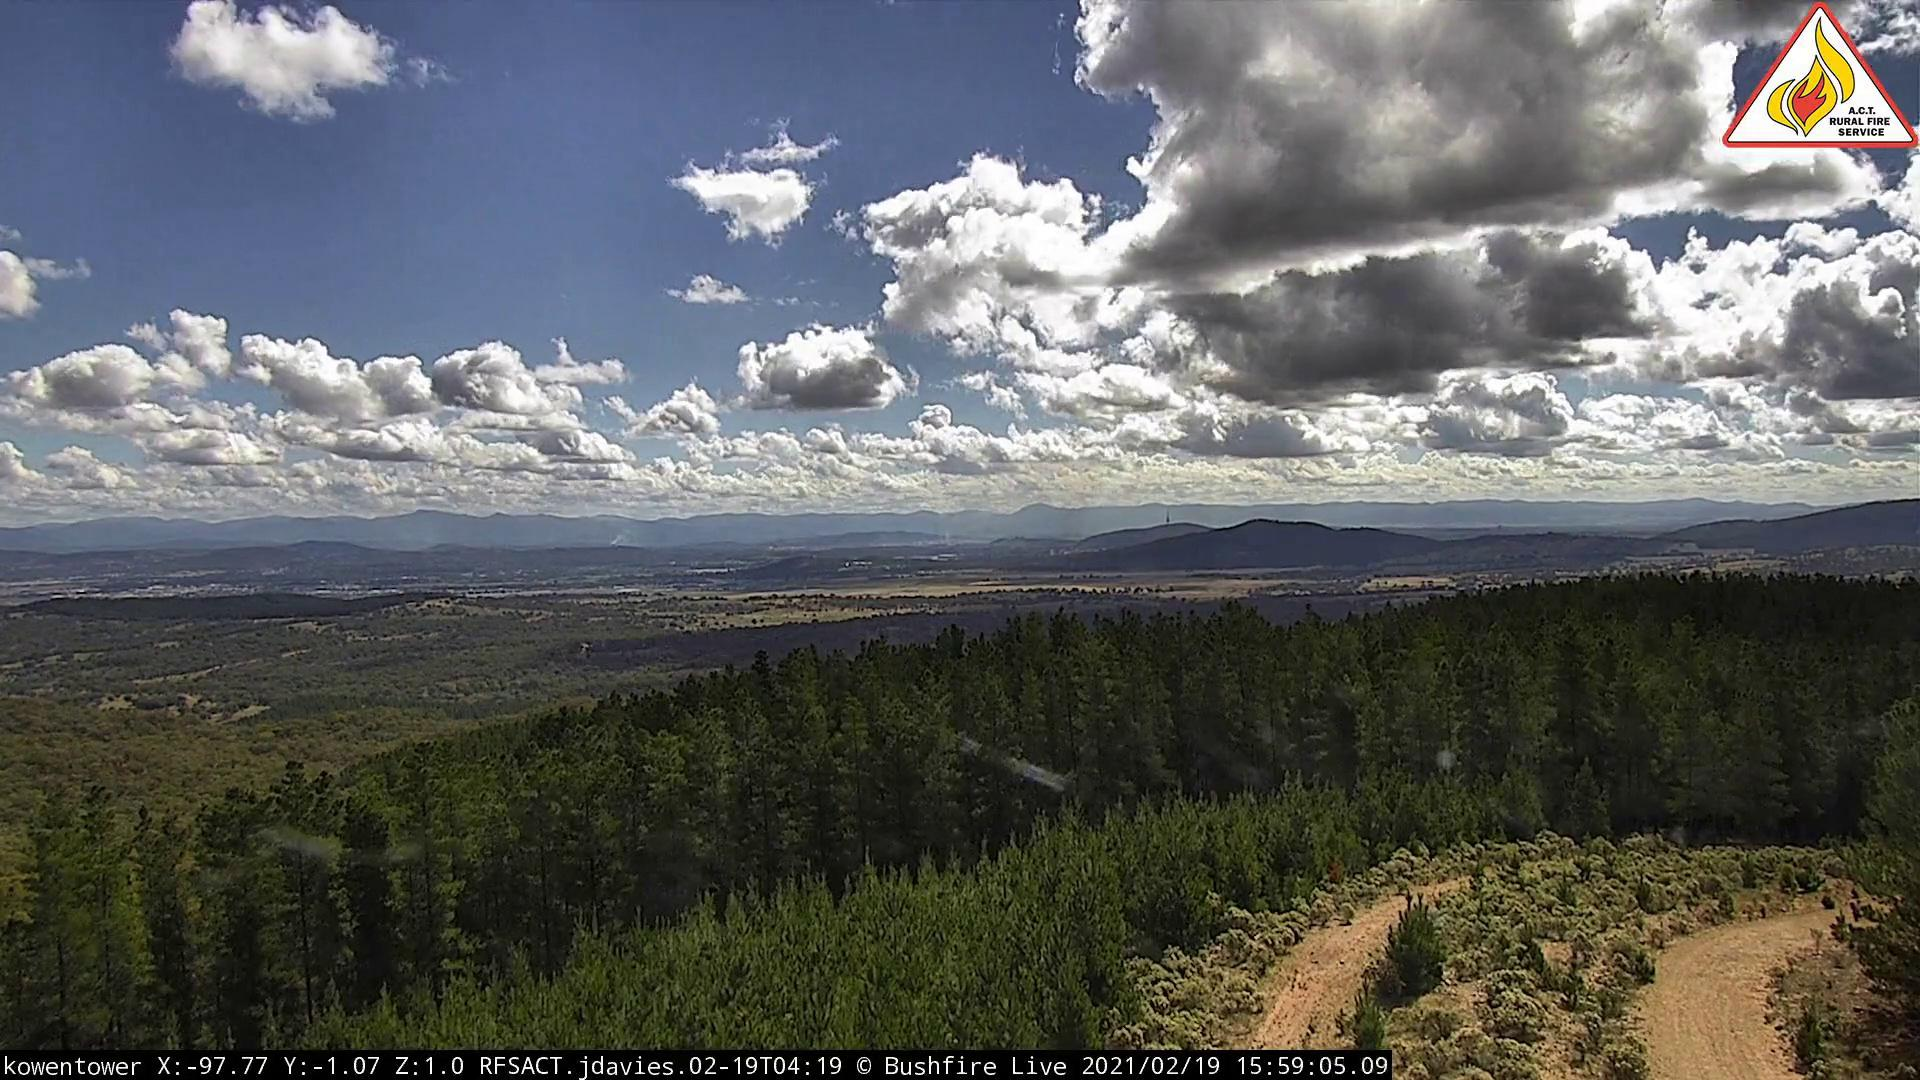instance_salient_object: (919, 502, 984, 554), (607, 531, 636, 553)
